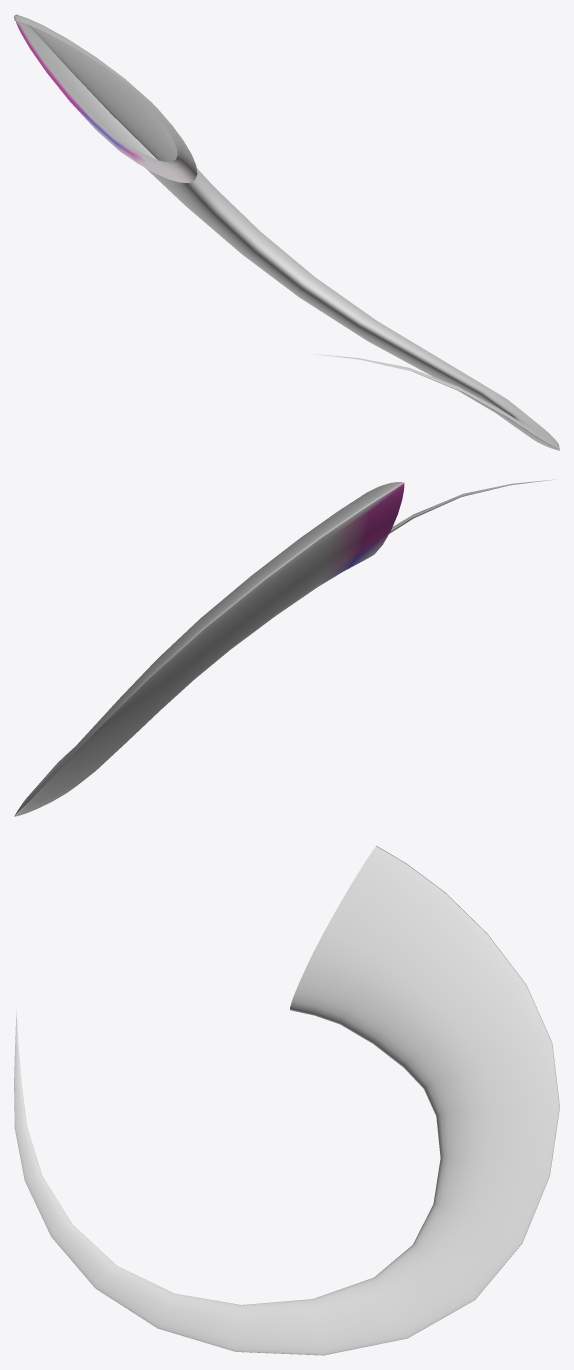
The model's file is SlashCombo1.fbx.
3 renders of one model, top to bottom at view 1: azimuth 30°, elevation 25°; view 2: azimuth 150°, elevation 25°; view 3: azimuth 270°, elevation 25°, orthographic. The views are drawn at different scales.
Visible parts, largest first — view 1: SlashComboAtck1; view 2: SlashComboAtck1; view 3: SlashComboAtck1.
Boxes of the visible parts, left/top/right/bottom form: SlashComboAtck1: left=14, top=14, right=559, bottom=450; SlashComboAtck1: left=14, top=479, right=555, bottom=816; SlashComboAtck1: left=14, top=845, right=559, bottom=1355.
Size of the model in its own units: 259 by 260 by 368.
